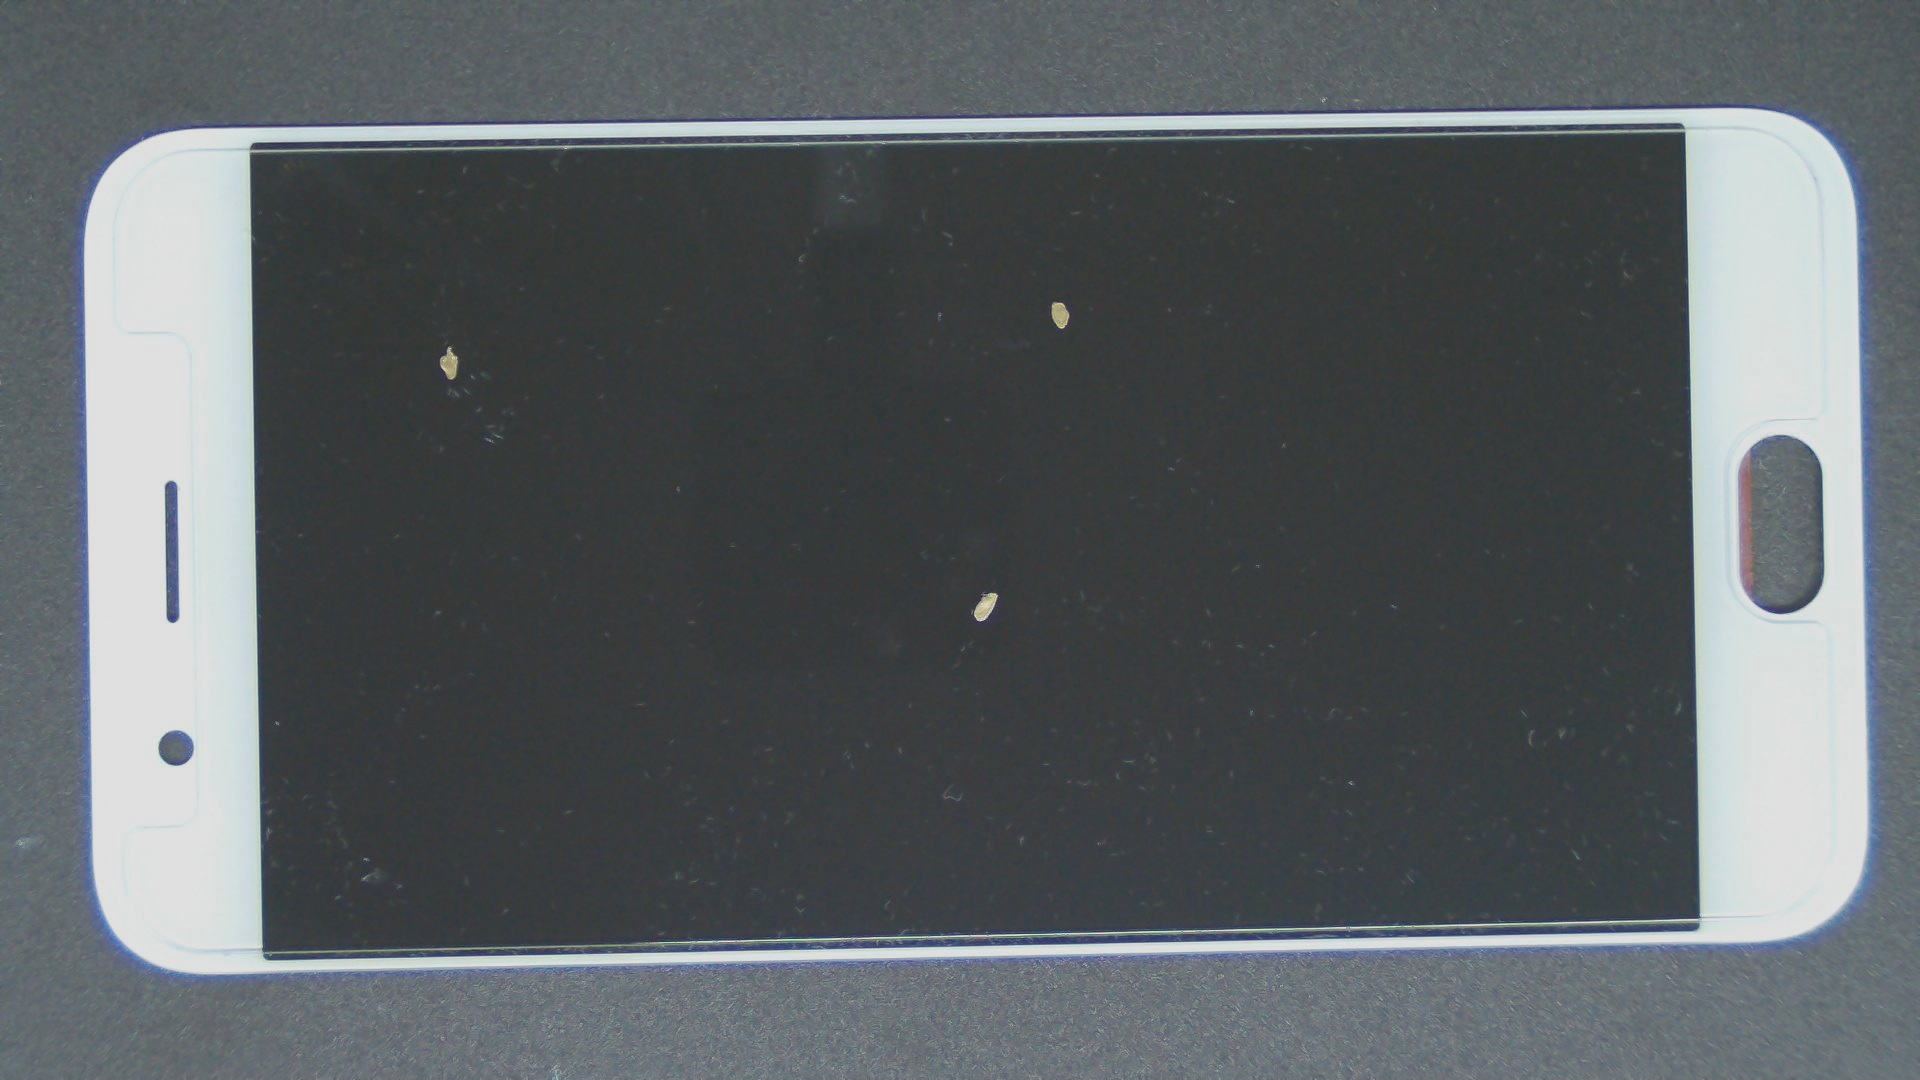oil: (498, 294, 1494, 886), (527, 149, 1582, 448), (225, 171, 671, 517)
